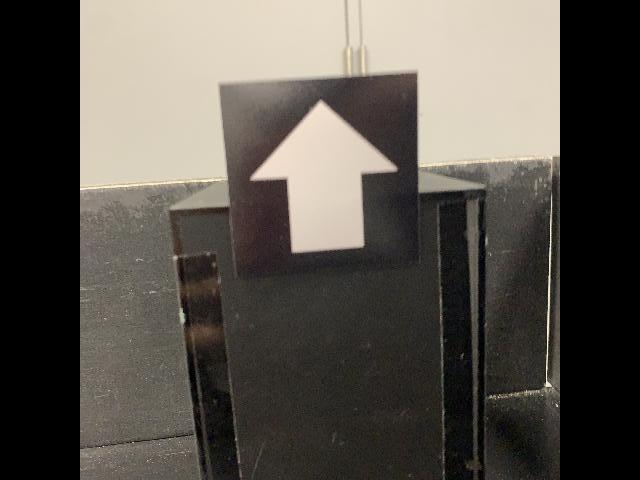up: (219, 71, 425, 281)
